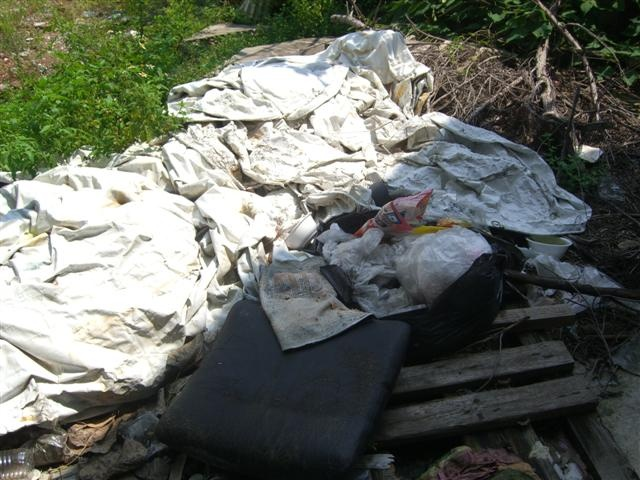bowl: (283, 212, 318, 250), (525, 234, 572, 257)
plastic_bag: (171, 28, 592, 230), (1, 154, 171, 416), (328, 226, 461, 304)
